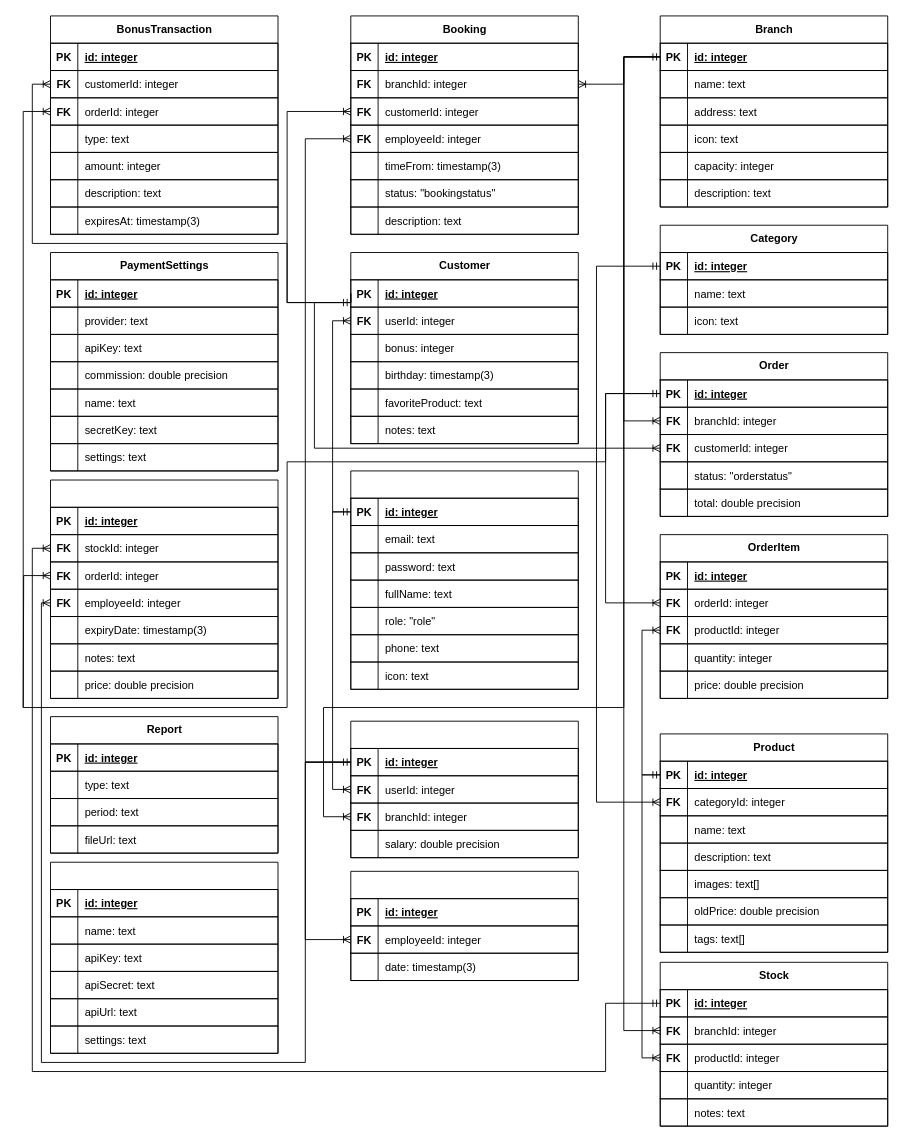
Image size: 904x1142. Some labels were removed from this diagram. Here are the shapes that lost their labels. From the top down, the box of each, then its label:
(50, 479, 278, 698): StockTransaction
(350, 470, 578, 689): User
(350, 720, 578, 858): Employee
(350, 870, 578, 981): Kpi
(50, 861, 278, 1053): Integration
